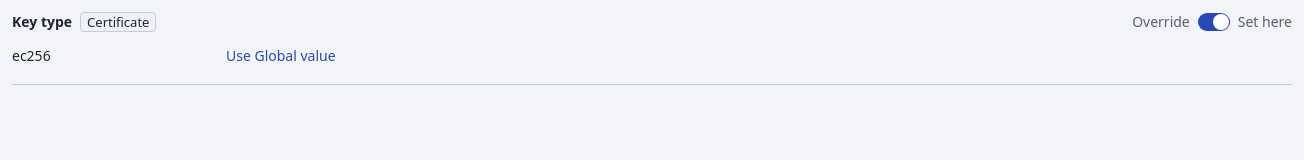
Test: disables Override with a reason, but still allows resetting an already-overridden field
Check: the switch named "Override Key type" is enabled, box [1198,13,1230,31]
Check: the field named "editor" is shown, box [12,46,214,66]
Click the button "Use Global value" at point(281, 56), box [226,40,336,72]
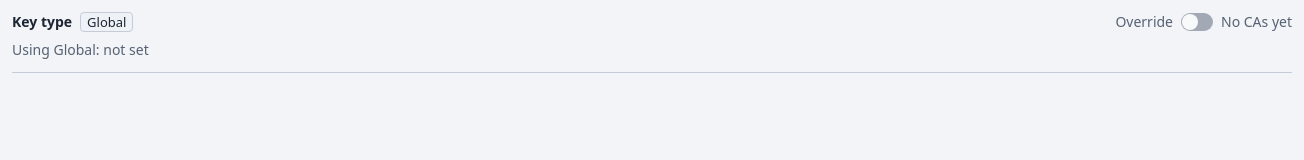
Check: the switch named "Override Key type" is disabled, box [1181,13,1213,31]
Check: the text "No CAs yet" is shown, box [1221,12,1292,32]
